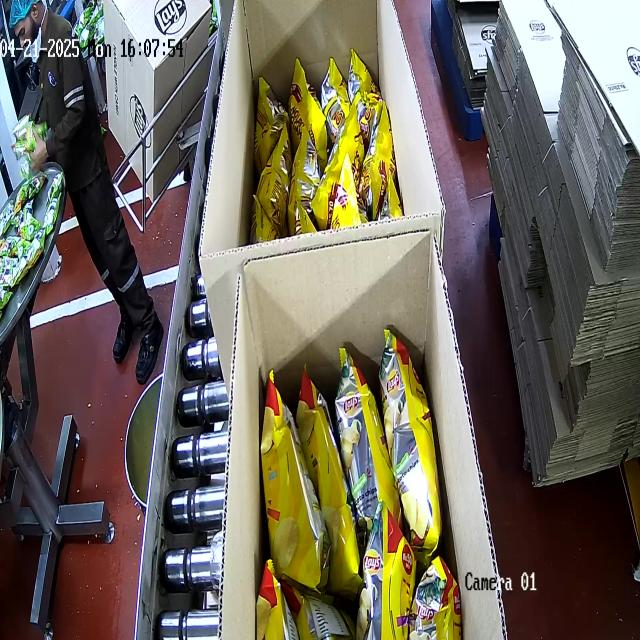SALTED: (245, 324, 466, 640), (248, 40, 407, 219)
